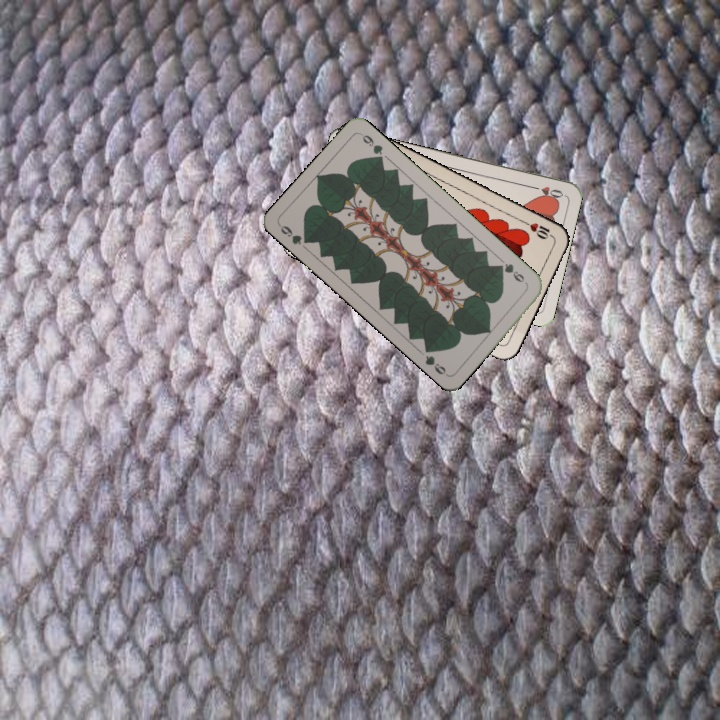G9: (494, 256, 530, 287), (275, 221, 313, 248)
H10: (518, 217, 556, 242)
HO: (526, 182, 566, 201)
